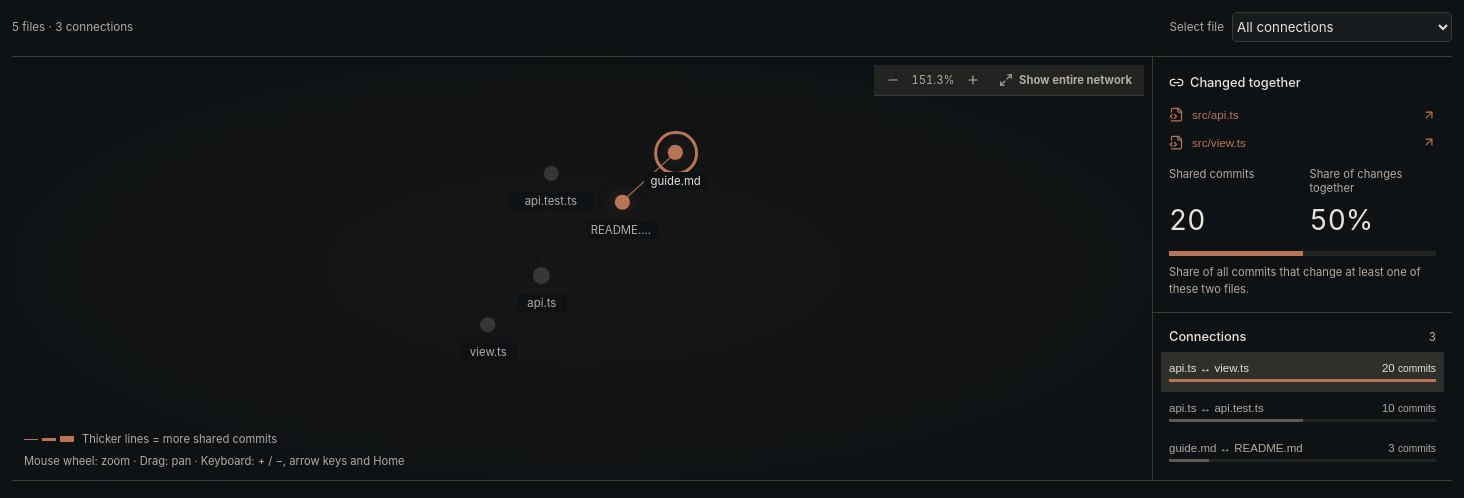
Test: file coupling network › exposes every pair to keyboard selection and supports file focus navigation and clearing a selection
The width and height of the screenshot is (1464, 498).
Press ArrowRight in the 1st button with class "analytics-coupling-node", box [662,139,690,167]
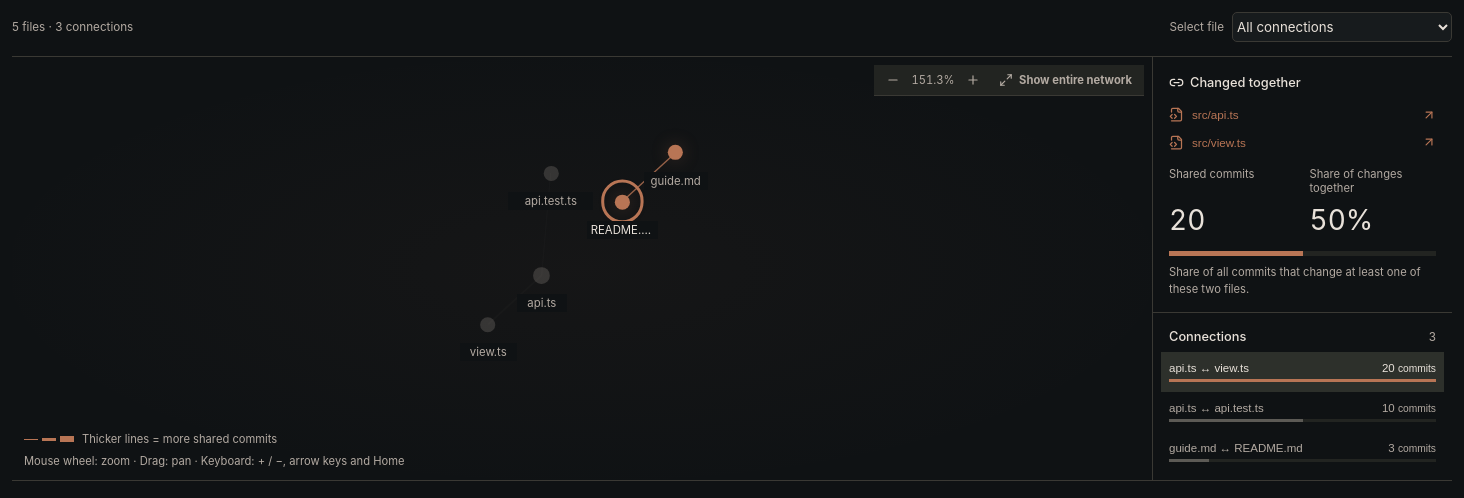
Press End in the 3rd button with class "analytics-coupling-node", box [608,188,636,216]
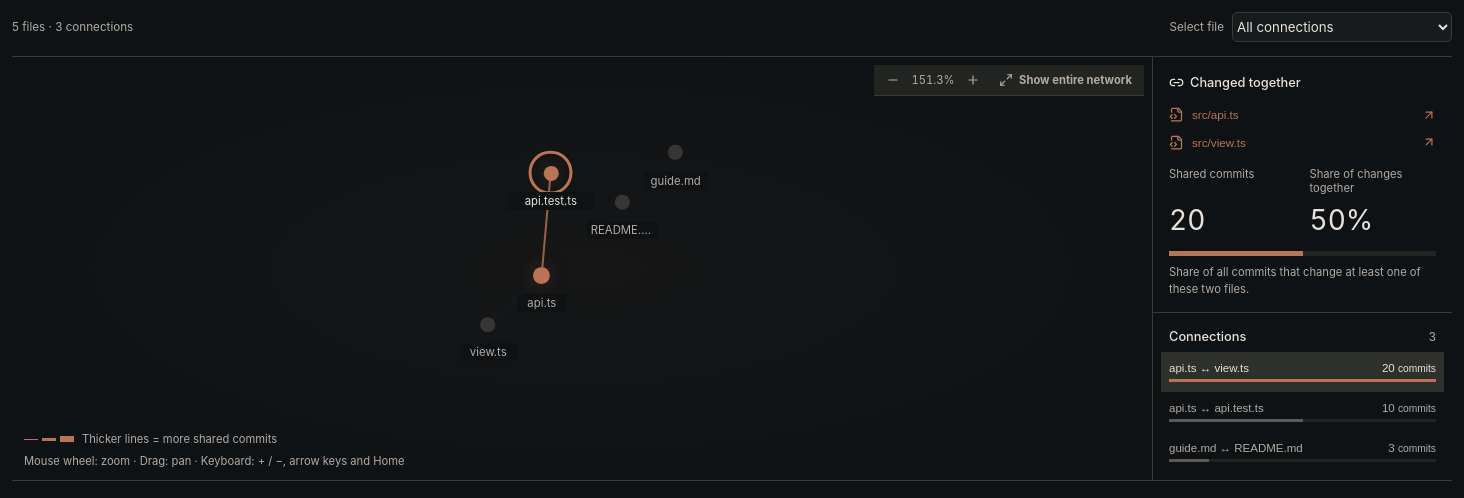
Click the 4th button with class "analytics-coupling-node". click: (542, 275)
box: [528,261,556,289]
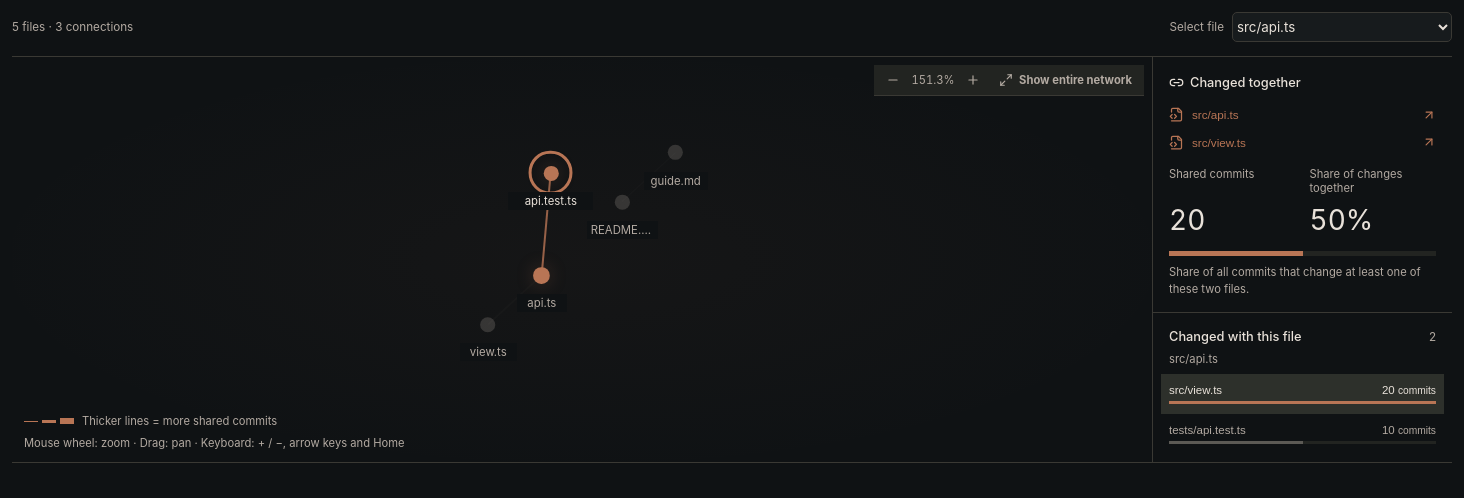
Press Escape in the 4th button with class "analytics-coupling-node", box [528,261,556,289]
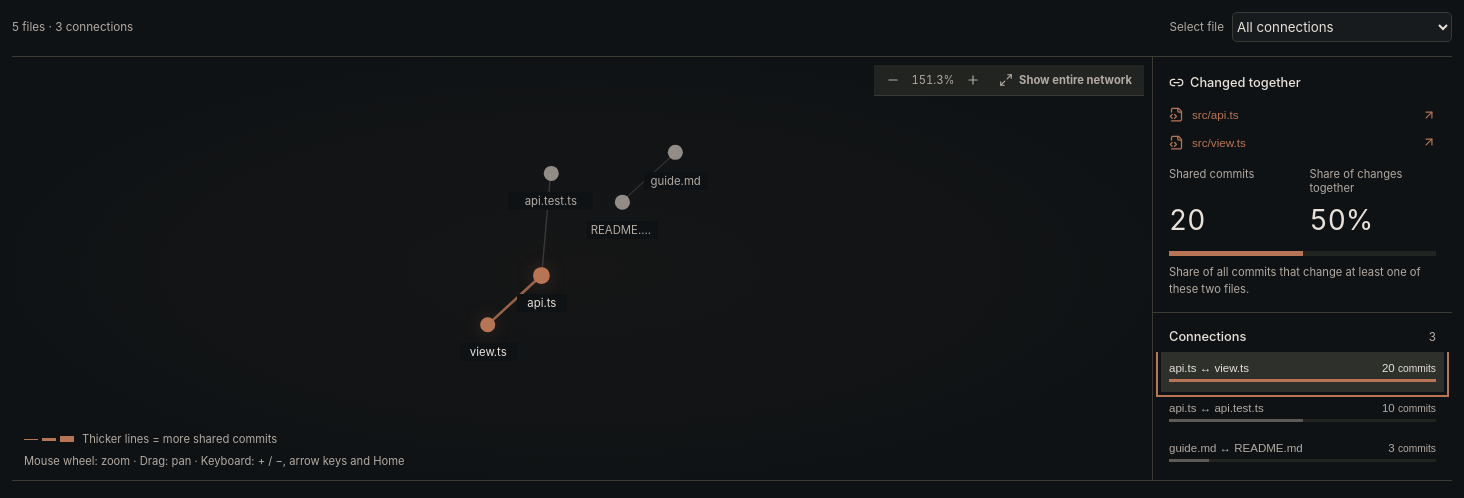
Press ArrowDown in the button with class "analytics-coupling-connection" showing "api.ts ↔ view.ts 20 commits", box [1161,352,1444,392]
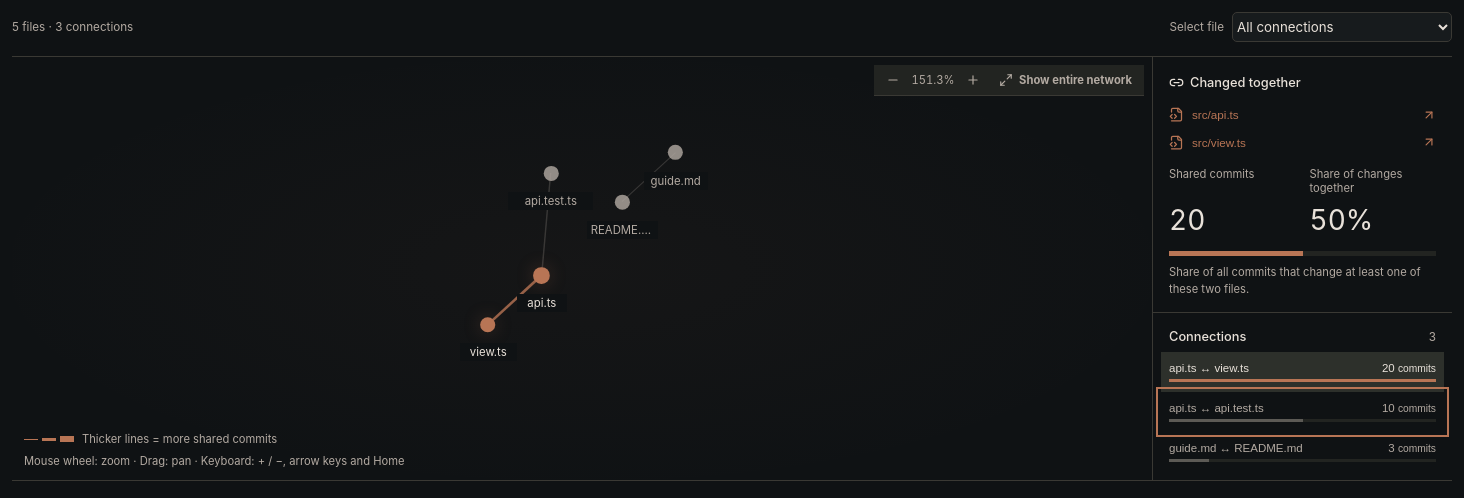
Click the button with class "analytics-coupling-connection" that starts with "api.ts ↔ api.test.ts". click: (1216, 408)
box: [1161,392,1444,432]
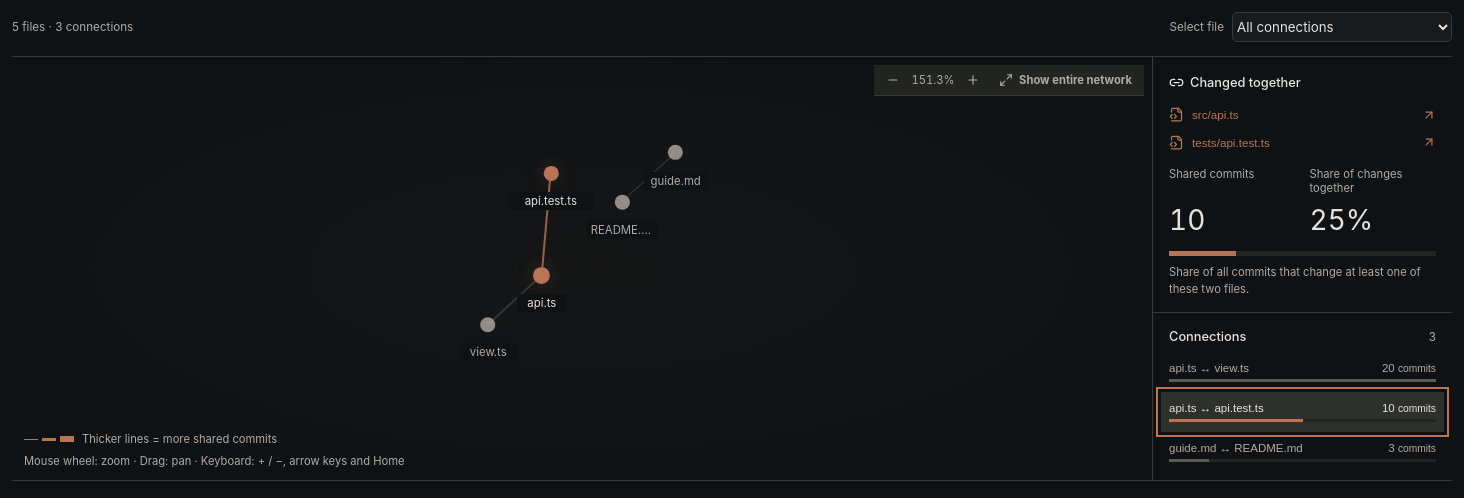
Expected: the text with class "analytics-coupling-count" reads "10", [1169,203,1205,237]
